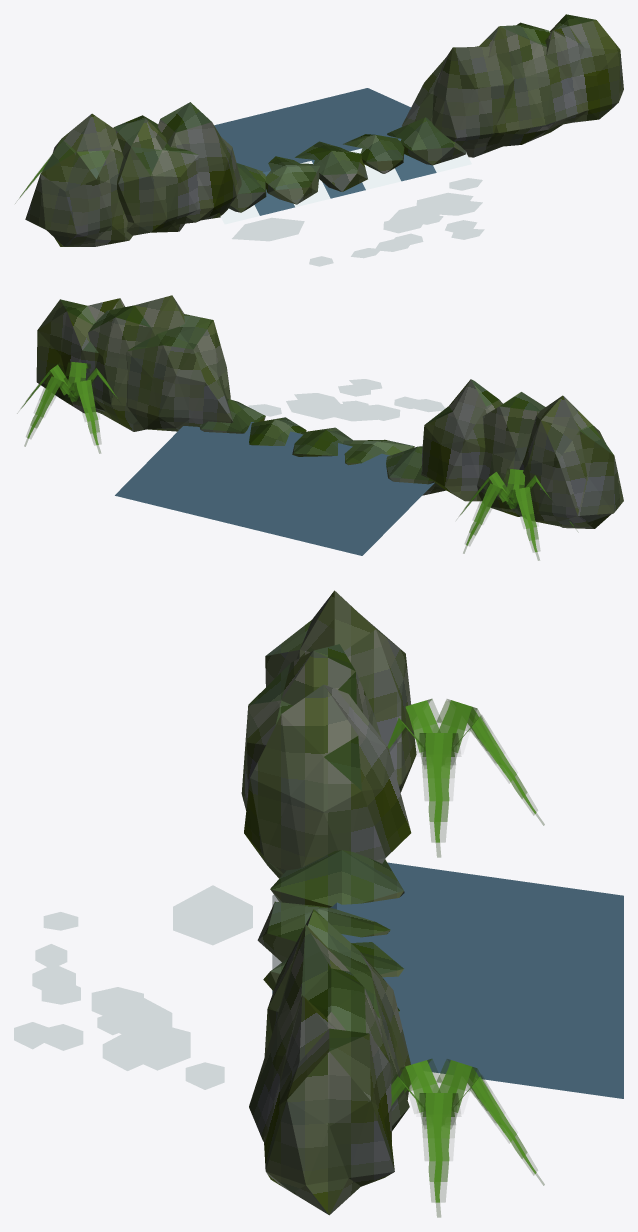
The model's file is cascade.glb.
3 views of the same model, one above another, from view 1: azimuth 30°, elevation 25°; view 2: azimuth 150°, elevation 25°; view 3: azimuth 270°, elevation 25° (orthographic). The views are drawn at different scales.
Parts seen in each view (by area): view 1: cascade_Stone_Rock, cascade_Water_Run, cascade_Stone_Moss, cascade_Water_Foam; view 2: cascade_Stone_Rock, cascade_Water_Run, cascade_Stone_Moss, cascade_Fern_Frond, cascade_Water_Foam; view 3: cascade_Stone_Rock, cascade_Water_Run, cascade_Stone_Moss, cascade_Water_Foam, cascade_Fern_Frond.
Part boxes in pixels (x1,y1,x2,y2): cascade_Stone_Rock: (25,16,623,246); cascade_Water_Run: (214,88,436,215); cascade_Stone_Moss: (41,14,595,193); cascade_Water_Foam: (220,148,484,266); cascade_Stone_Rock: (36,295,623,528); cascade_Water_Run: (115,422,434,555); cascade_Stone_Moss: (60,299,613,480); cascade_Fern_Frond: (17,361,577,560); cascade_Water_Foam: (248,379,446,421); cascade_Stone_Rock: (241,590,416,1215); cascade_Water_Run: (272,862,623,1098); cascade_Stone_Moss: (248,620,403,1051); cascade_Water_Foam: (14,885,281,1089); cascade_Fern_Frond: (387,698,544,1217).
Bounding box in the file's own units: 6.14 × 1.36 × 3.29.
Materials: 5 (3 with a texture image).
